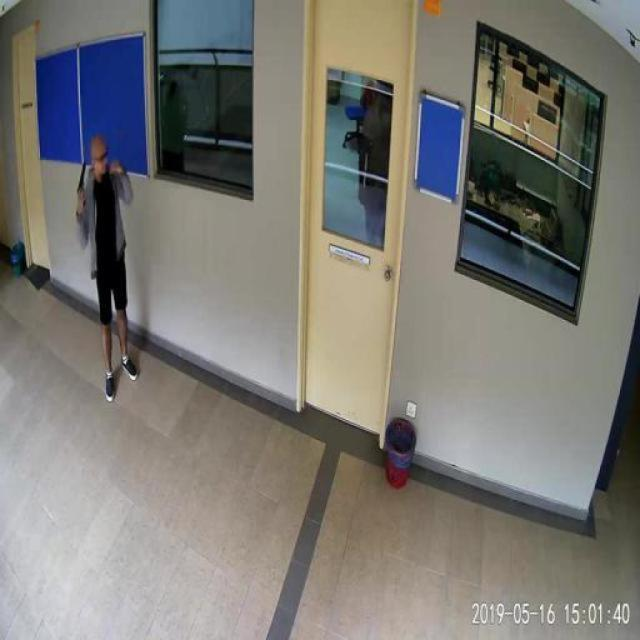pistol: (75, 161, 84, 201)
